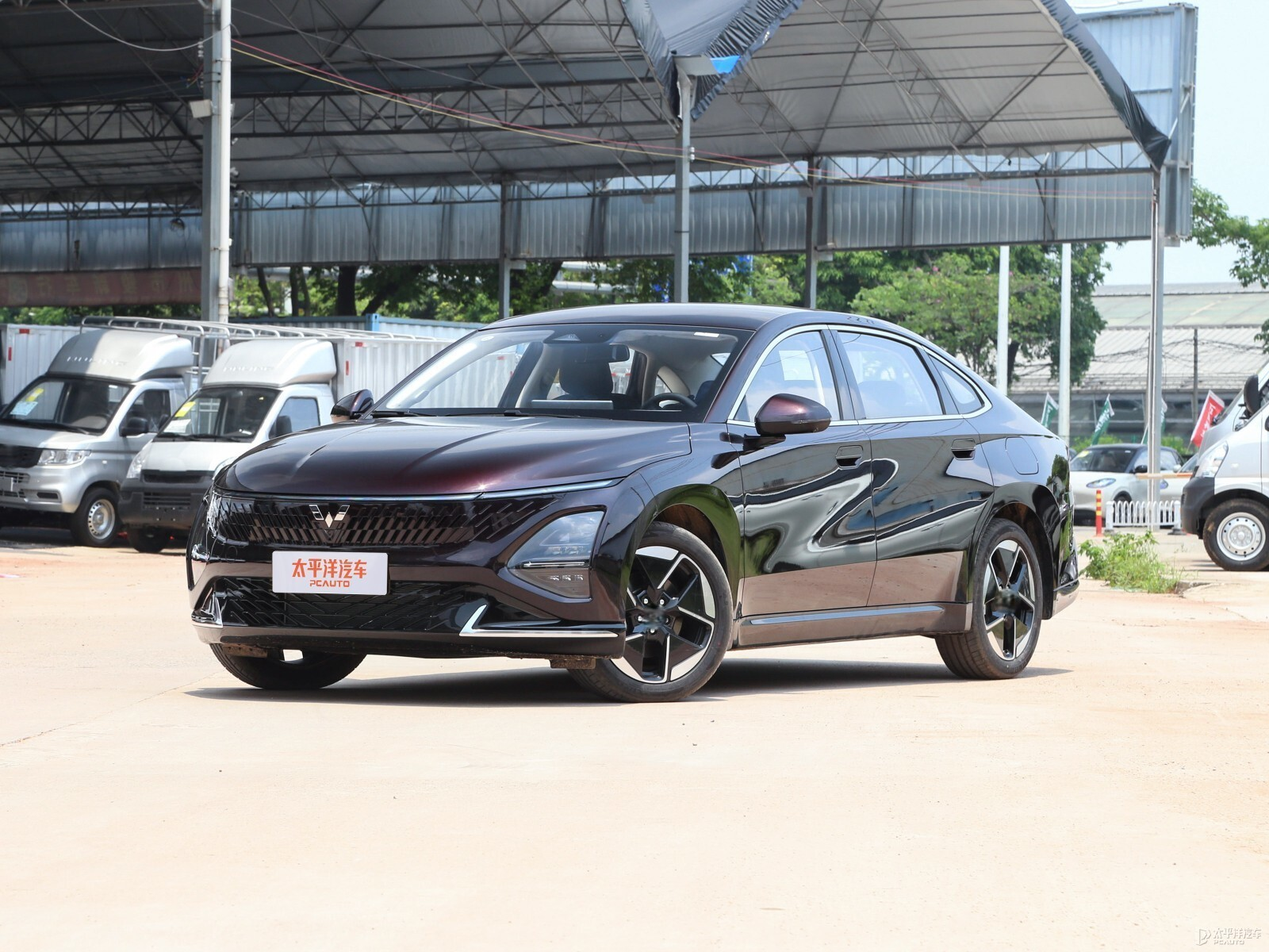SGMW: (309, 505, 350, 528)
